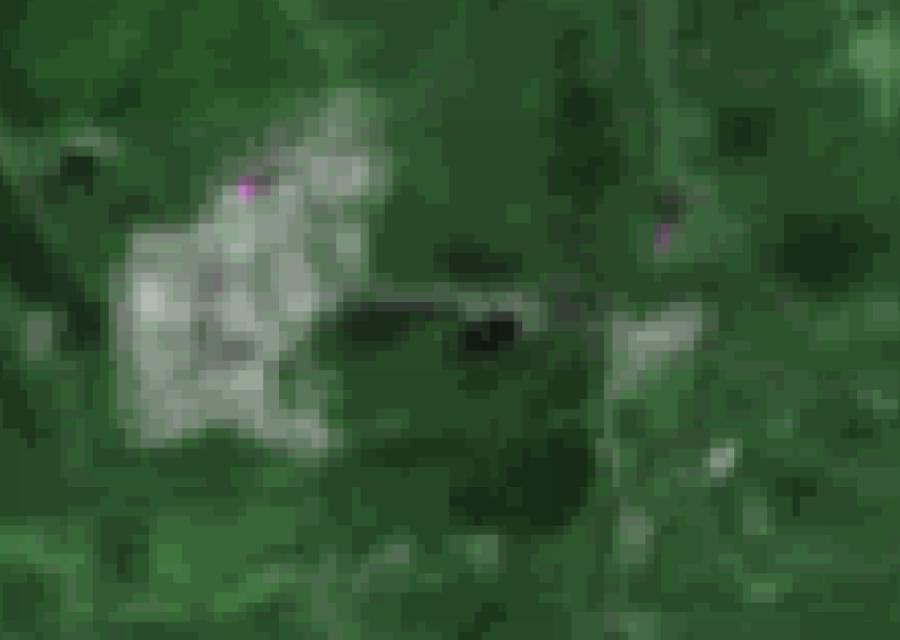Potential Lime Manufacturing Facility: (238, 178, 253, 200)
